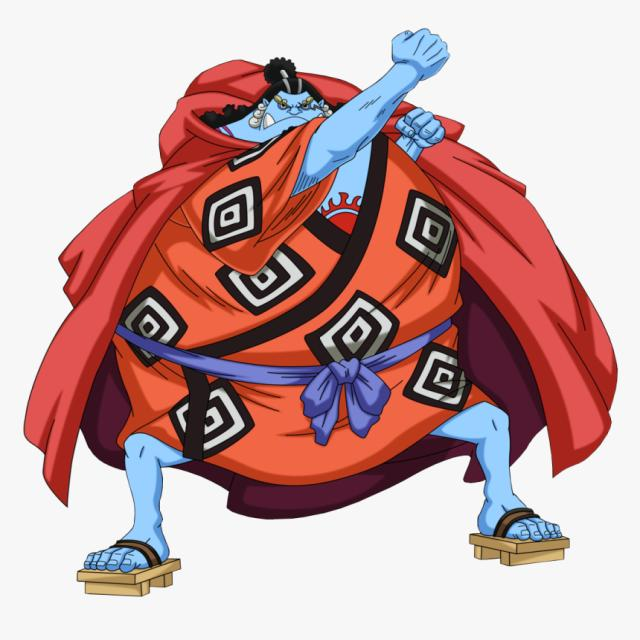Jinbe: (23, 28, 620, 600)
